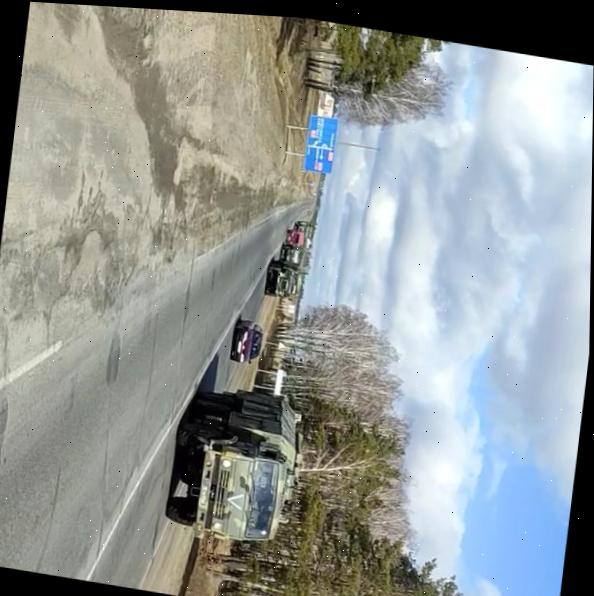car: (230, 314, 268, 367)
truck: (164, 379, 300, 552), (252, 257, 299, 302), (275, 241, 306, 265)
